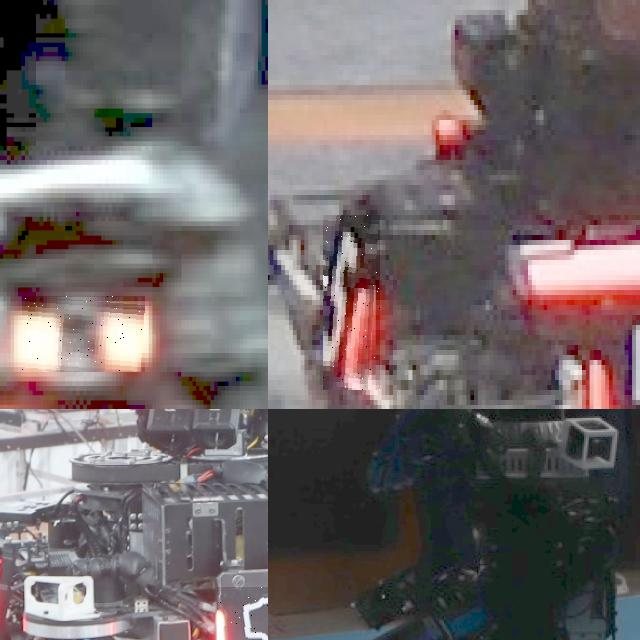R5: (324, 215, 382, 390), (578, 320, 640, 409)
Rs: (22, 296, 145, 372)
